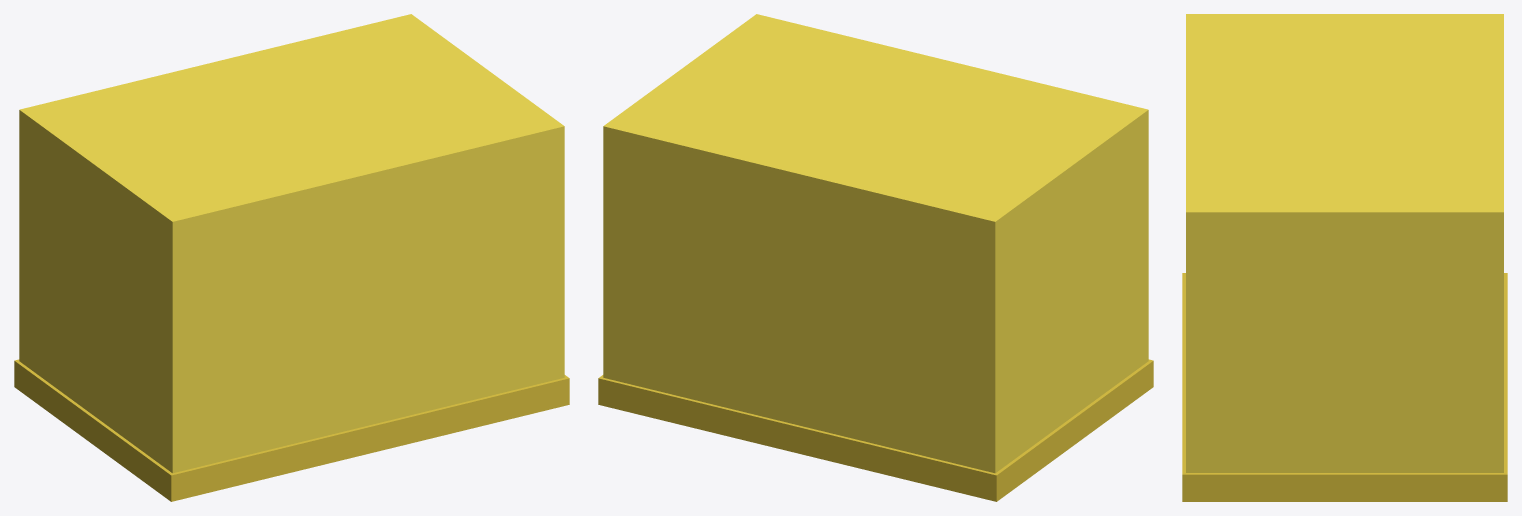
The model's file is pescador_saia.glb.
3 views of the same model, side by side, from view 1: azimuth 30°, elevation 25°; view 2: azimuth 150°, elevation 25°; view 3: azimuth 270°, elevation 25° (orthographic). The views are drawn at different scales.
Parts seen in each view (by area): view 1: pescador_saia; view 2: pescador_saia; view 3: pescador_saia.
Boxes of the visible parts, x1,y1,x2,y2 form: pescador_saia: [14, 14, 569, 501]; pescador_saia: [598, 14, 1153, 501]; pescador_saia: [1182, 14, 1507, 501].
Size of the model in its own units: 0.63 by 0.42 by 0.43.
